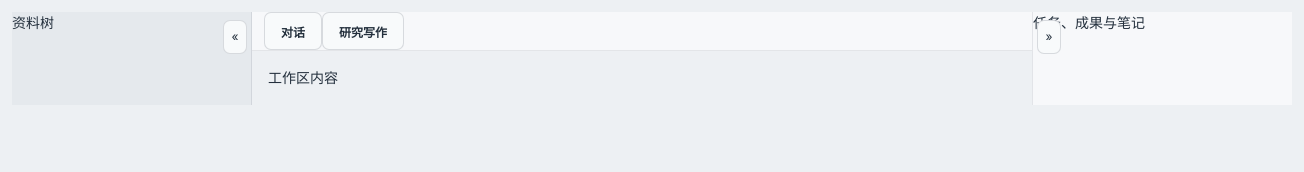
METIS-501 ProjectShell — raw workspace slots › collapses and restores raw right content
The width and height of the screenshot is (1304, 172).
Click the button named "收起检查器" at coordinates (1049, 37), box [1037,20,1061,54]
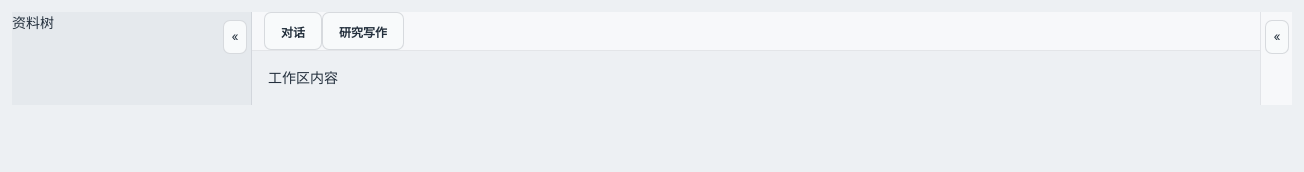
Expected: the text with test id "raw-right-panel" is gone
Click the button named "展开检查器" at coordinates (1277, 37), box [1265,20,1289,54]
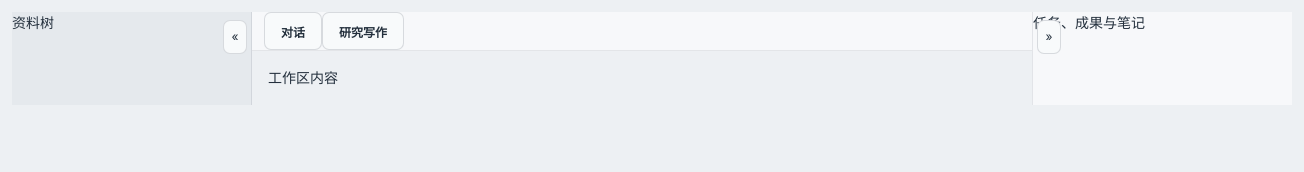
Expected: the text "任务、成果与笔记" is shown, [1033,14,1145,31]
